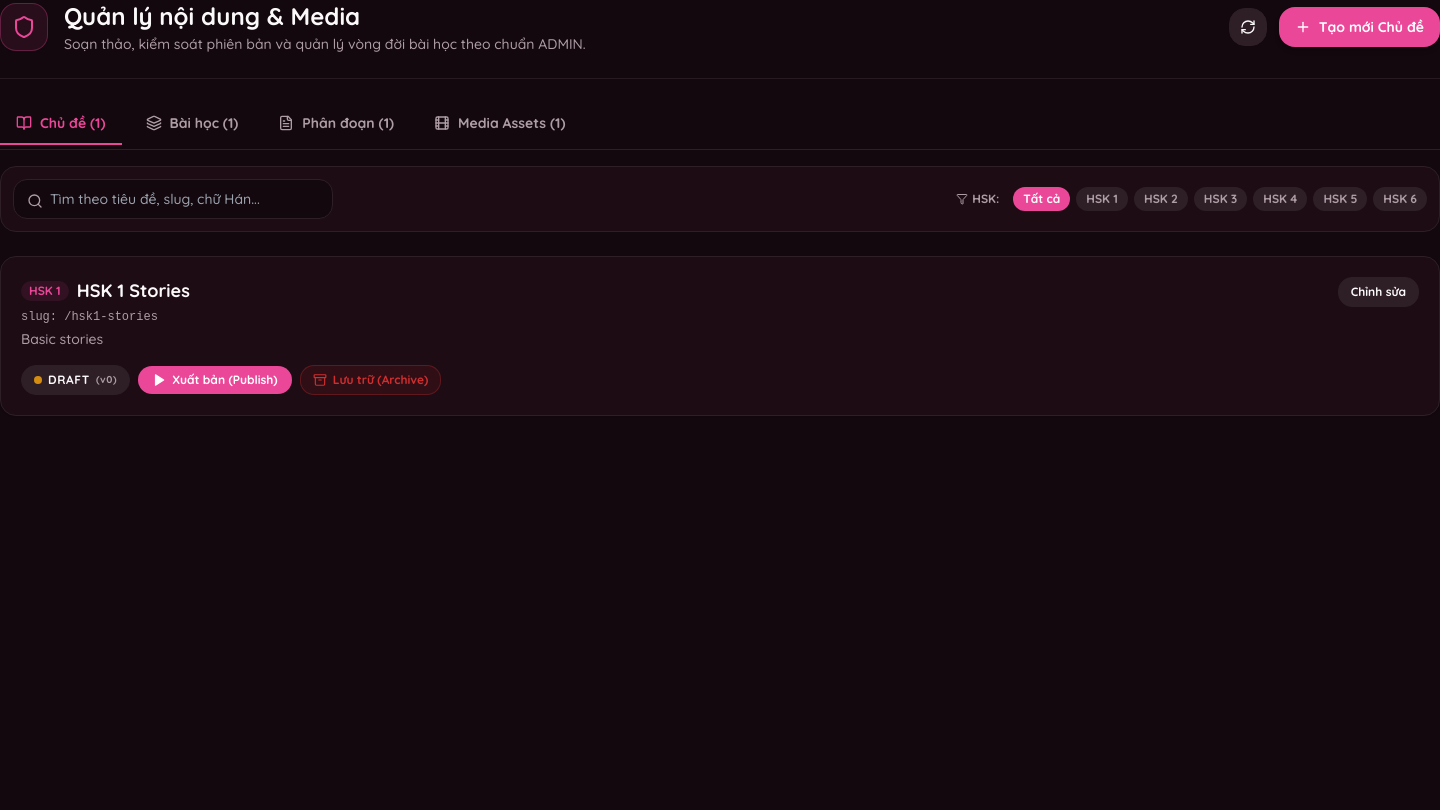
Test: F04 Content & Media Administration UI tests › opens ContentEditor on Create button click
What coordinates should you click on to do the following:
click the button with test id "create-content-btn"
I would click on:
 (1359, 27)
Its box is [1279, 7, 1439, 47].
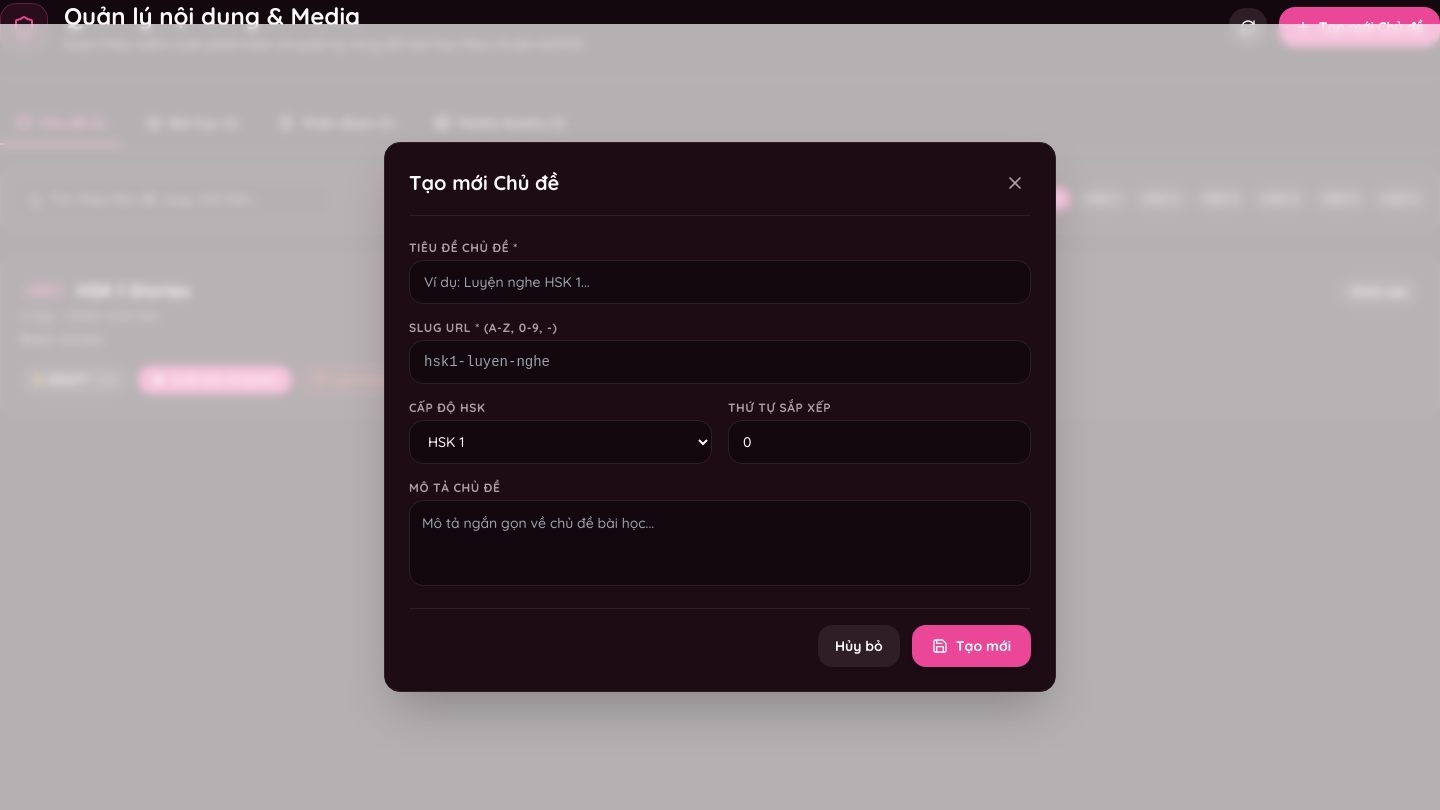
Expected: the form with test id "content-editor-form" is shown, [409, 240, 1031, 667]
